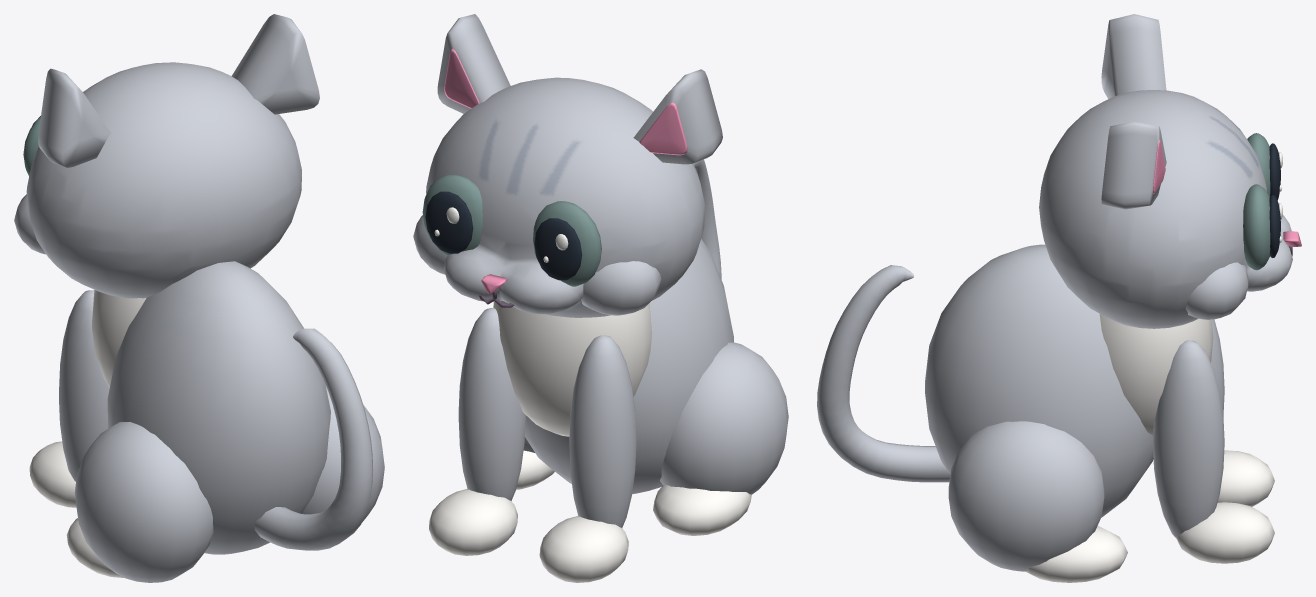
Rendered from cat.glb.
3 renders of one model, left to right at view 1: azimuth 30°, elevation 25°; view 2: azimuth 150°, elevation 25°; view 3: azimuth 270°, elevation 25°, orthographic. The views are drawn at different scales.
Parts seen in each view (by area): view 1: Head, Torso, Haunch_L, Leg_FL, Ear_R, Ear_L, Tail_2, Tail_1, Haunch_R, Chest, Tail_3, Paw_FL (+3 smaller); view 2: Head, Torso, Haunch_L, Chest, Leg_FL, Leg_FR, Paw_FL, Paw_FR, Ear_L, Paw_BL, Ear_R, Cheek_L (+9 smaller); view 3: Head, Torso, Haunch_R, Leg_FR, Chest, Ear_L, Ear_R, Paw_FR, Tail_2, Tail_1, Paw_BR, Cheek_R (+6 smaller).
Boxes of the visible parts, x1,y1,x2,y2 form: Head: (26, 62, 301, 298); Torso: (107, 261, 330, 554); Haunch_L: (74, 422, 213, 582); Leg_FL: (59, 290, 109, 481); Ear_R: (232, 14, 319, 114); Ear_L: (38, 68, 110, 167); Tail_2: (330, 396, 373, 528); Tail_1: (254, 504, 360, 550); Haunch_R: (302, 385, 384, 522); Chest: (92, 290, 146, 387); Tail_3: (293, 328, 360, 405); Paw_FL: (29, 441, 76, 507); Head: (426, 77, 705, 317); Torso: (525, 239, 733, 494); Haunch_L: (660, 342, 788, 494); Chest: (493, 301, 651, 436); Leg_FL: (569, 335, 636, 527); Leg_FR: (458, 308, 525, 500); Paw_FL: (539, 516, 628, 582); Paw_FR: (429, 489, 517, 555); Ear_L: (633, 69, 722, 164); Paw_BL: (653, 485, 751, 535); Ear_R: (437, 14, 510, 113); Cheek_L: (581, 261, 661, 315); Head: (1039, 90, 1292, 328); Torso: (925, 244, 1153, 517); Haunch_R: (948, 421, 1104, 571); Leg_FR: (1153, 340, 1224, 539); Chest: (1099, 313, 1213, 435); Ear_L: (1101, 14, 1166, 98); Ear_R: (1101, 121, 1166, 209); Paw_FR: (1177, 502, 1274, 563); Tail_2: (817, 325, 862, 448); Tail_1: (831, 427, 950, 482); Paw_BR: (1025, 526, 1127, 582); Cheek_R: (1185, 262, 1248, 319).
Size of the model in its own units: 0.314 by 0.4999 by 0.4722.
Materials: 8 (1 with a texture image).
